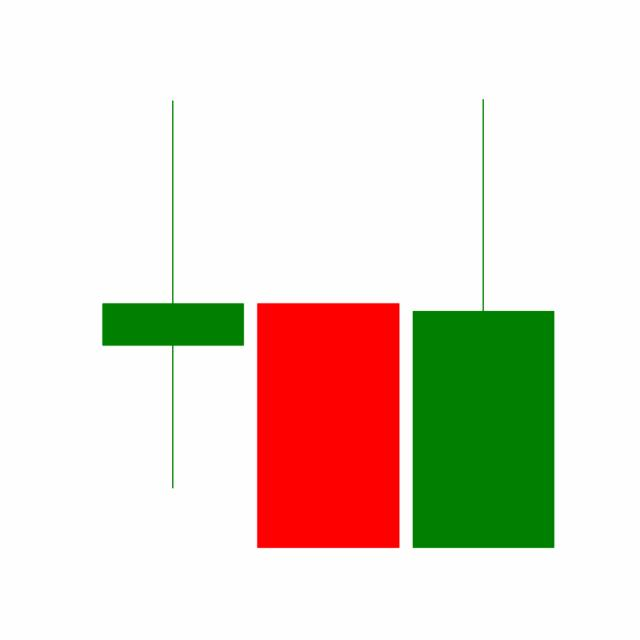Marubozu: (249, 300, 406, 550)
